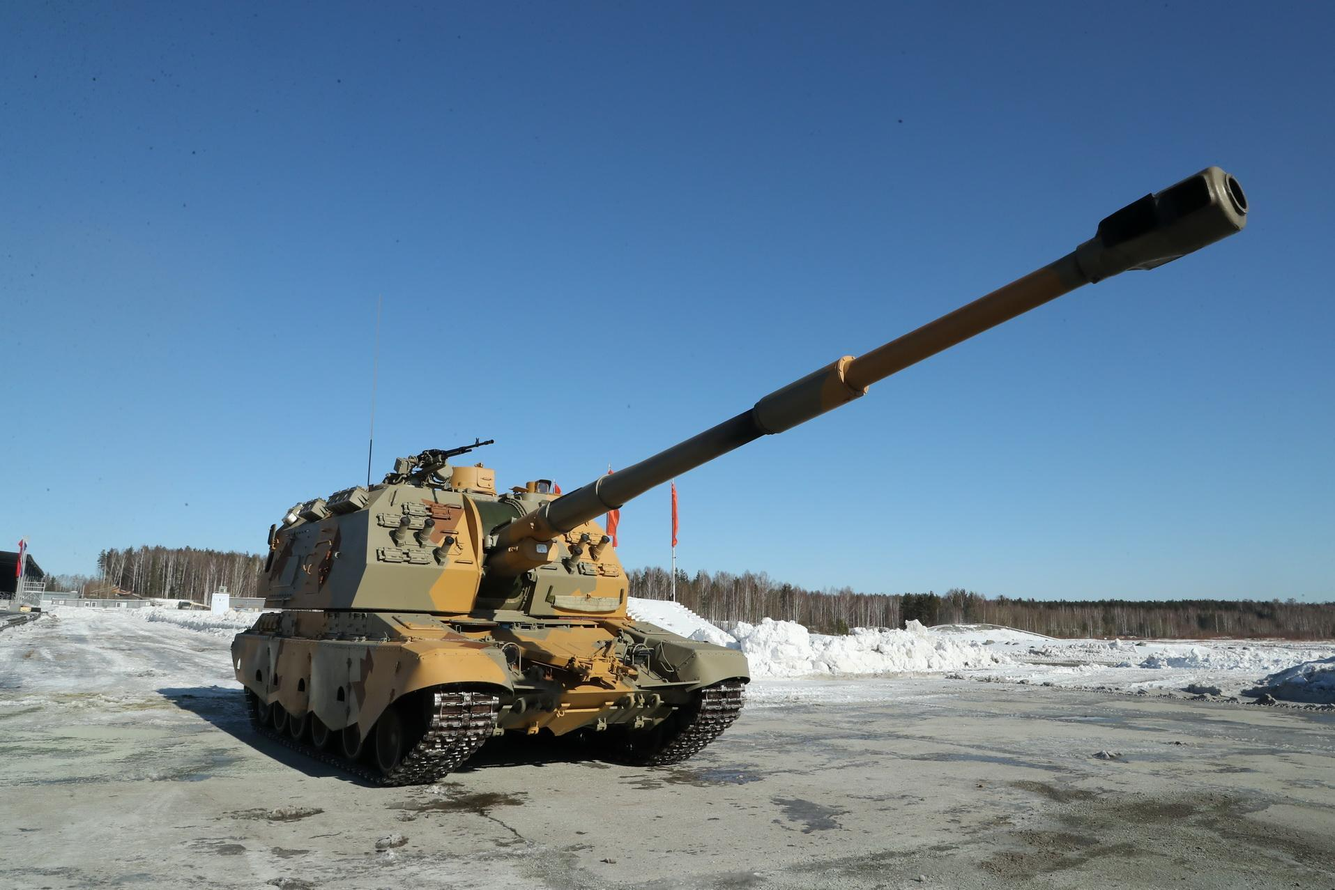sau: (208, 132, 1261, 803)
